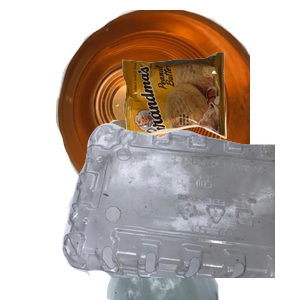glass: (83, 120, 294, 300)
metal: (53, 10, 293, 190)
plastic: (60, 120, 300, 300)
trash: (120, 50, 300, 182)
